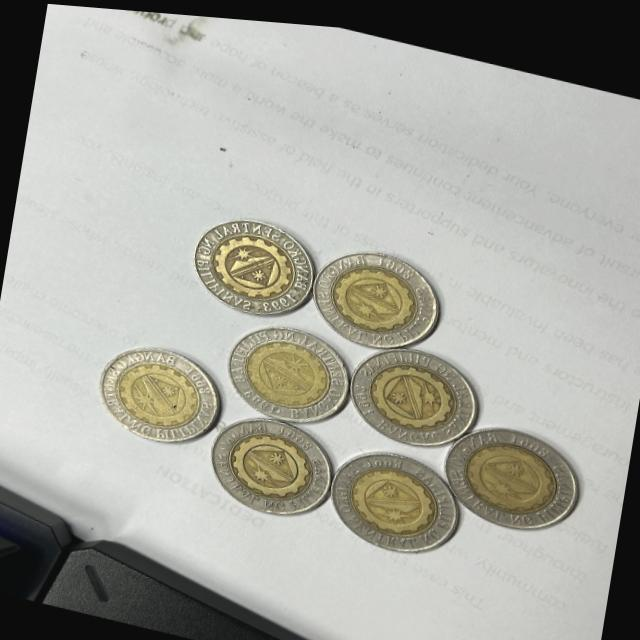10_Old_Back: (438, 406, 586, 536), (204, 401, 344, 528), (81, 323, 226, 444), (186, 203, 326, 323), (326, 433, 458, 551), (348, 332, 481, 446), (325, 243, 449, 352), (226, 312, 358, 414)
